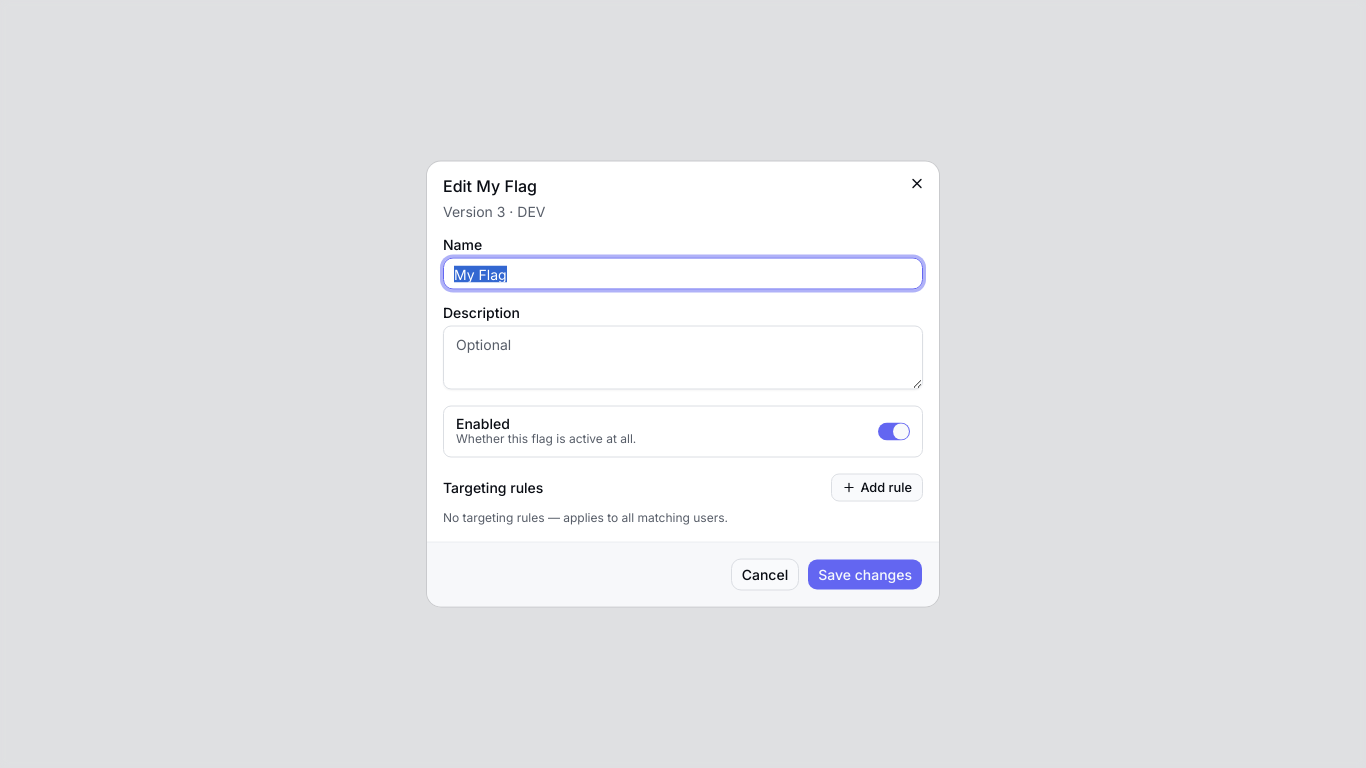
FlagFormDialog › shows a clear conflict message on a 409 and does not close the dialog
The width and height of the screenshot is (1366, 768).
Click the button "Save changes" at (865, 574), box [807,558,923,590]
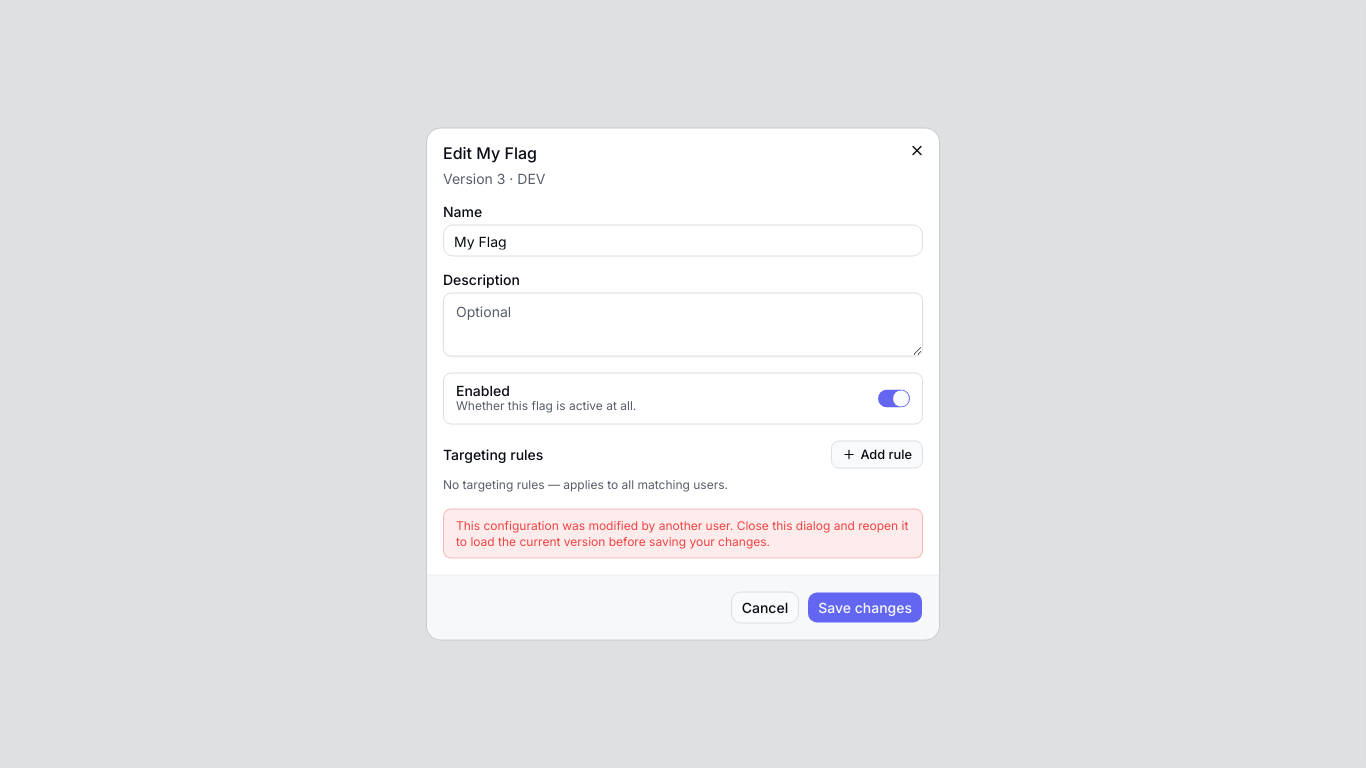
Now the text "modified by another user" is shown, box [456,518,908,548]
